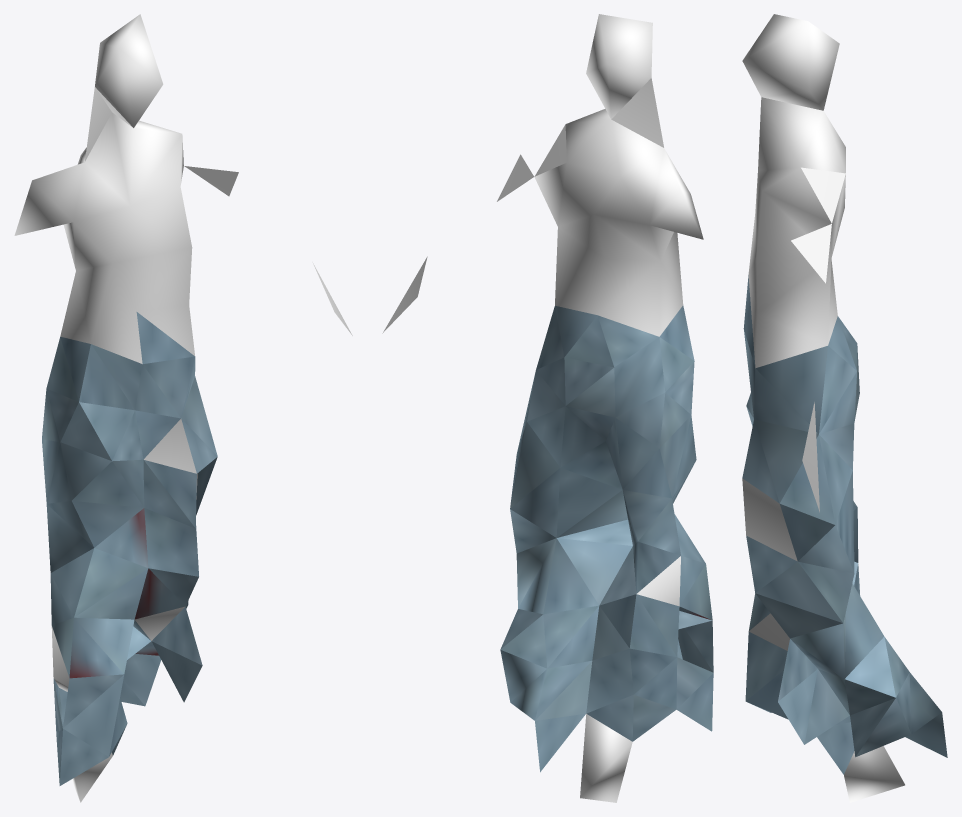
The picture shows the model from 3 angles, left to right: view 1: azimuth 30°, elevation 25°; view 2: azimuth 150°, elevation 25°; view 3: azimuth 270°, elevation 25°; orthographic projection. The views are drawn at different scales.
Parts seen in each view (by area): view 1: Cube; view 2: Cube; view 3: Cube.
Boxes of the visible parts, bbox=[...] form: Cube: bbox=[14, 14, 352, 802]; Cube: bbox=[382, 14, 713, 802]; Cube: bbox=[742, 14, 947, 802].
Size of the model in its own units: 0.9596 by 2.17 by 0.5032.
Materials: 2 (1 with a texture image).
